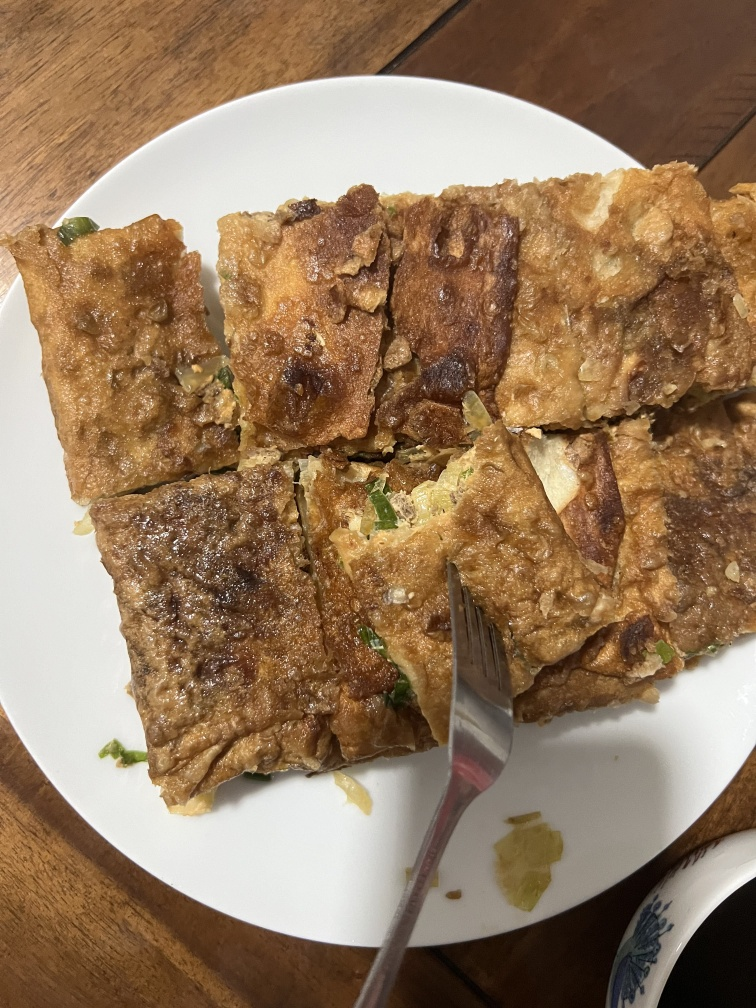martabak telor: (65, 471, 333, 779), (319, 411, 561, 733), (14, 218, 238, 471), (533, 131, 756, 385), (371, 154, 560, 419), (211, 176, 393, 440), (594, 401, 756, 648)
